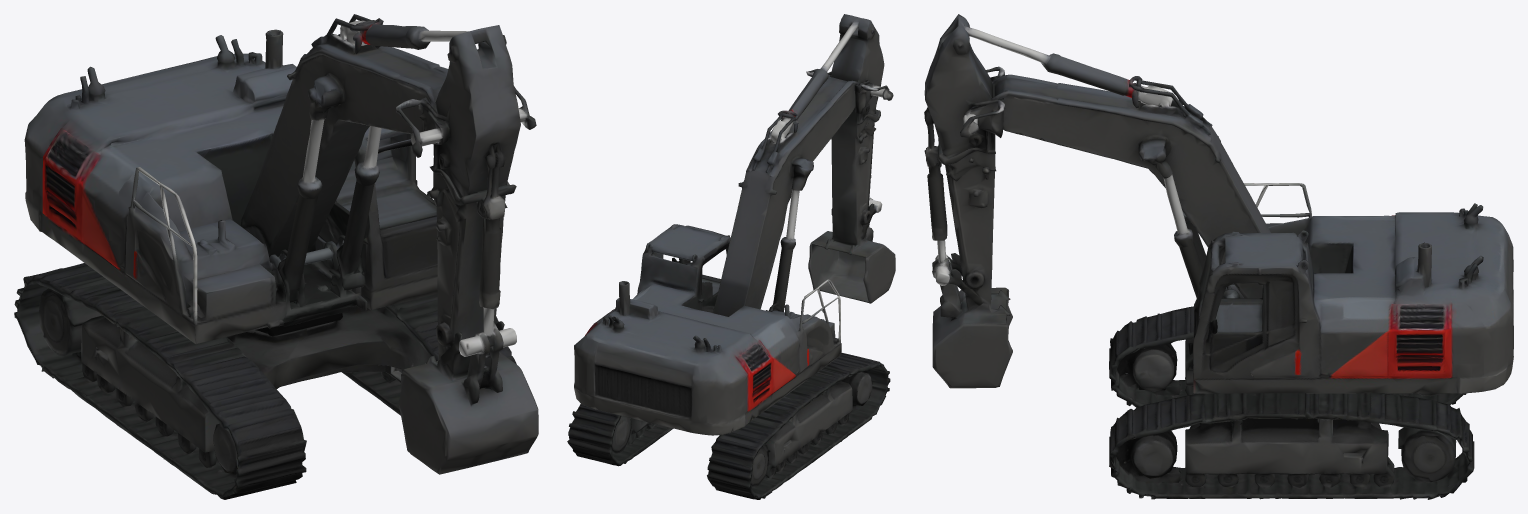
The model's file is excavator.glb.
3 views of the same model, side by side, from view 1: azimuth 30°, elevation 25°; view 2: azimuth 150°, elevation 25°; view 3: azimuth 270°, elevation 25° (orthographic). The views are drawn at different scales.
Visible parts, largest first — view 1: tripo_node_646ea5d6-50ce-41b9-9a92-fa38211b1dcf; view 2: tripo_node_646ea5d6-50ce-41b9-9a92-fa38211b1dcf; view 3: tripo_node_646ea5d6-50ce-41b9-9a92-fa38211b1dcf.
Part boxes in pixels (box(x1,y1,x2,y2)): tripo_node_646ea5d6-50ce-41b9-9a92-fa38211b1dcf: box(14, 14, 538, 499); tripo_node_646ea5d6-50ce-41b9-9a92-fa38211b1dcf: box(567, 14, 895, 499); tripo_node_646ea5d6-50ce-41b9-9a92-fa38211b1dcf: box(924, 14, 1513, 499).
Bounding box in the file's own units: 0.4621 × 0.7892 × 1.
Materials: 1 (1 with a texture image).
